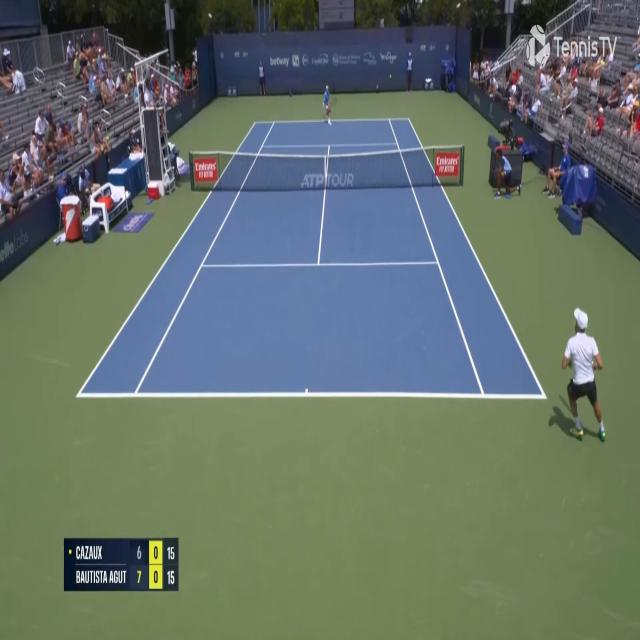tennis-player: (552, 303, 610, 442), (322, 83, 334, 127)
